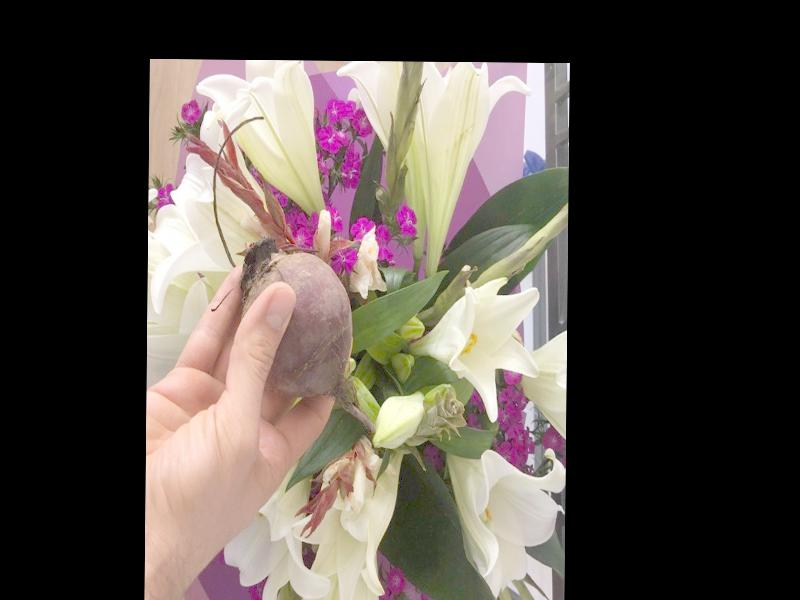Beet: (238, 237, 379, 437)
